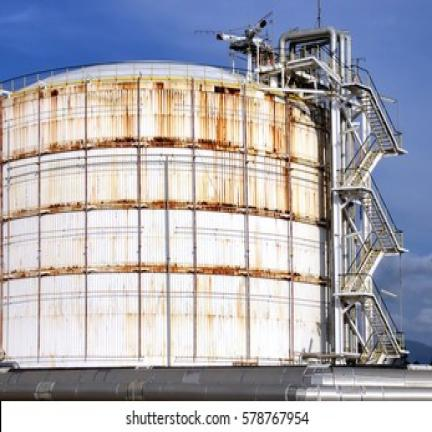karat: (33, 81, 244, 97)
